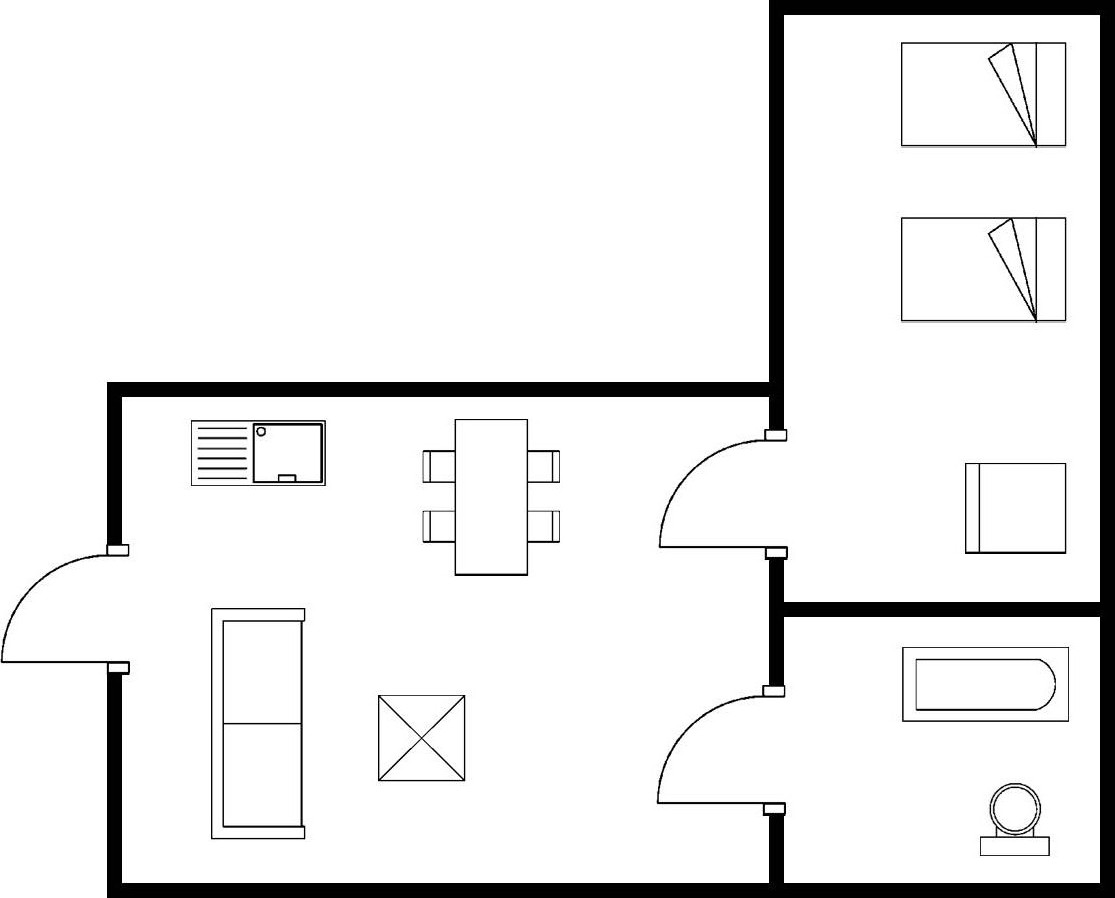bed: (894, 213, 1072, 328), (897, 37, 1073, 152)
coffee_table: (371, 688, 472, 790)
dining_table: (419, 414, 564, 581)
large_sink: (976, 779, 1055, 863)
large_sofa: (204, 603, 311, 845)
sink: (187, 416, 331, 492)
small_sofa: (960, 460, 1071, 560)
tub: (895, 642, 1074, 730)
